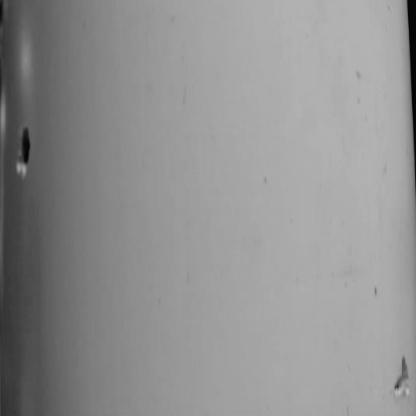kongdong: (13, 120, 35, 181), (395, 346, 414, 402)
